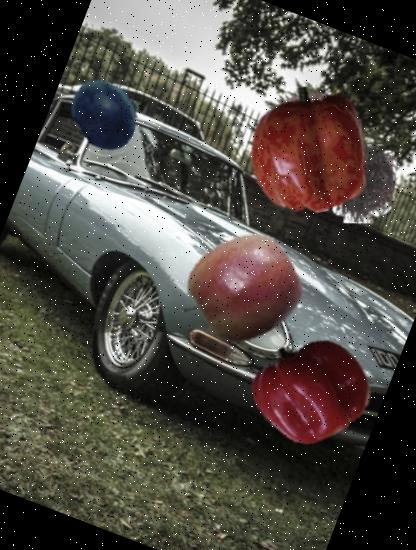Apple: (160, 212, 318, 371)
Huckleberry: (57, 66, 154, 162)
Pepper: (226, 69, 390, 233), (235, 316, 386, 466)
Rambutan: (311, 133, 414, 236)
Strawberry: (255, 64, 365, 174)
